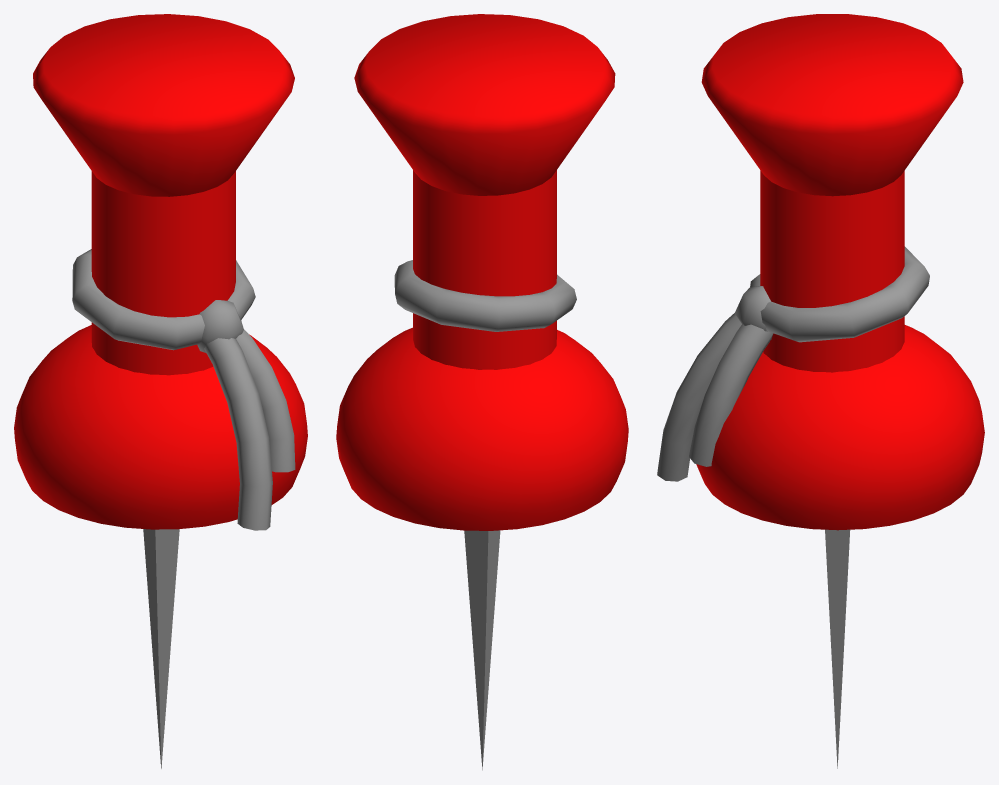
File: pin.FBX
3 views of the same model, side by side, from view 1: azimuth 30°, elevation 25°; view 2: azimuth 150°, elevation 25°; view 3: azimuth 270°, elevation 25° (orthographic).
Parts seen in each view (by area): view 1: pin_top, Torus001, pin_bottom; view 2: pin_top, Torus001, pin_bottom; view 3: pin_top, Torus001, pin_bottom.
Boxes of the visible parts, x1,y1,x2,y2 form: pin_top: (14, 14, 307, 529); Torus001: (72, 249, 295, 530); pin_bottom: (143, 529, 179, 768); pin_top: (336, 14, 628, 530); Torus001: (394, 260, 576, 331); pin_bottom: (464, 530, 500, 770); pin_top: (696, 14, 984, 530); Torus001: (657, 246, 929, 481); pin_bottom: (825, 529, 850, 768).
Size of the model in its own units: 934 by 2476 by 1042.
